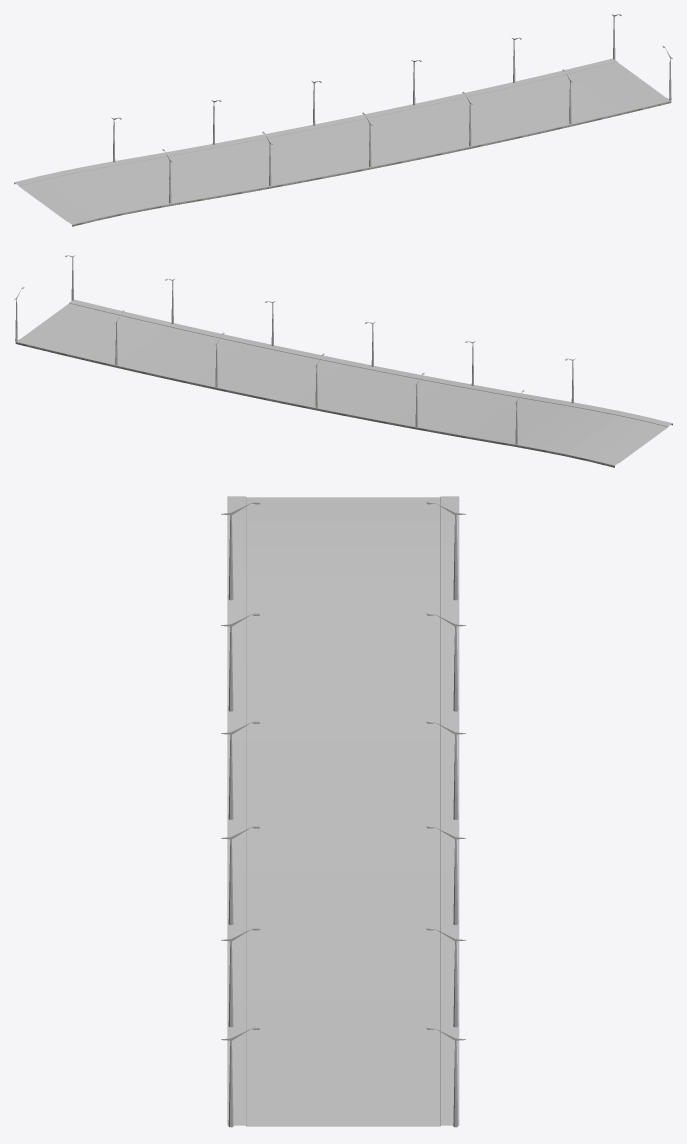
Rendered from Big_Road_up_5.FBX.
The picture shows the model from 3 angles, top to bottom: view 1: azimuth 30°, elevation 25°; view 2: azimuth 150°, elevation 25°; view 3: azimuth 270°, elevation 25°; orthographic projection. The views are drawn at different scales.
Parts seen in each view (by area): view 1: Big_Road_up_5; view 2: Big_Road_up_5; view 3: Big_Road_up_5.
Part boxes in pixels (x1,y1,x2,y2): Big_Road_up_5: (14, 58, 671, 226); Big_Road_up_5: (15, 299, 672, 467); Big_Road_up_5: (227, 496, 459, 1126).
Bounding box in the file's own units: 13544 × 1508 × 2394.
